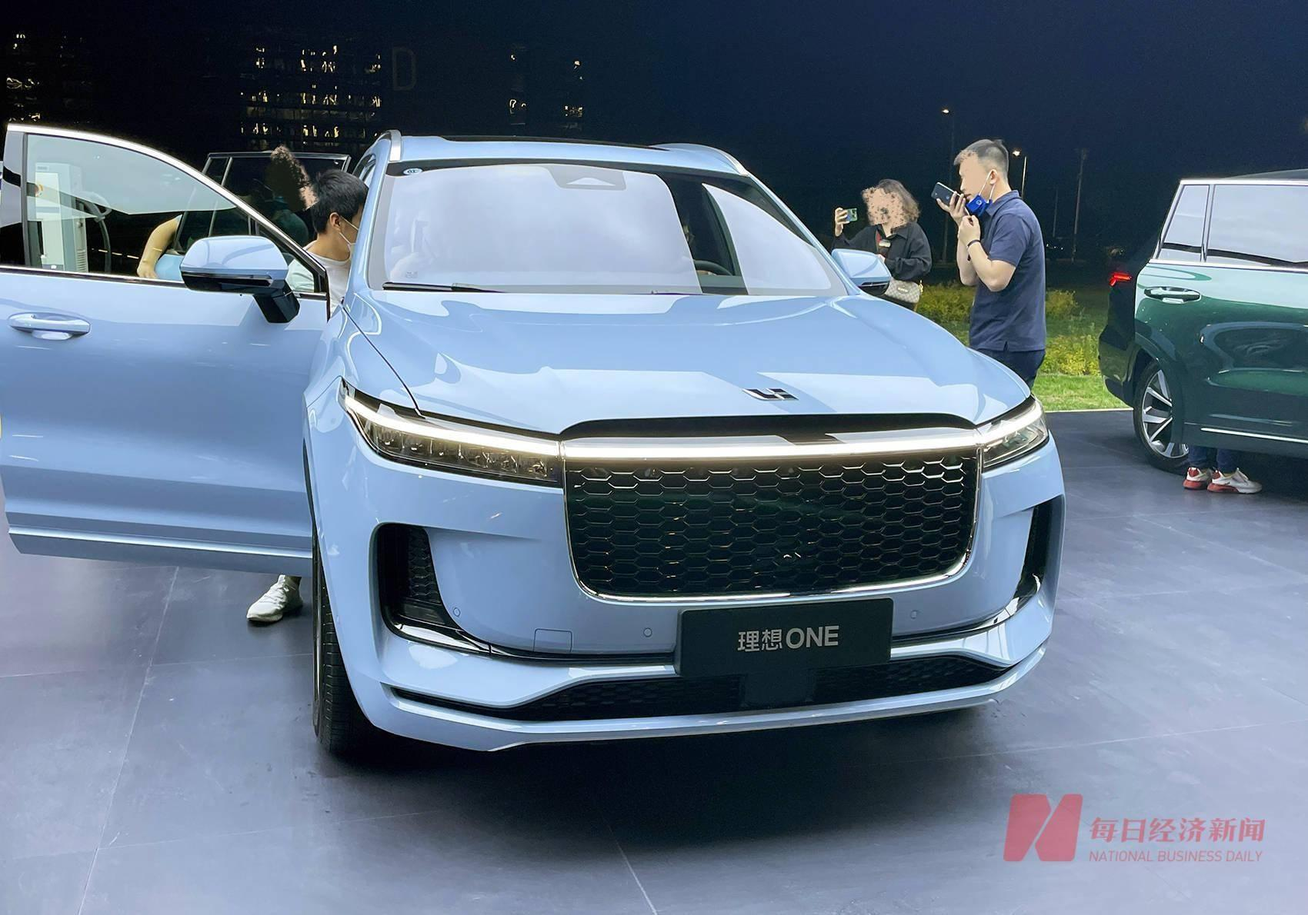Li Auto: (742, 387, 799, 402)
